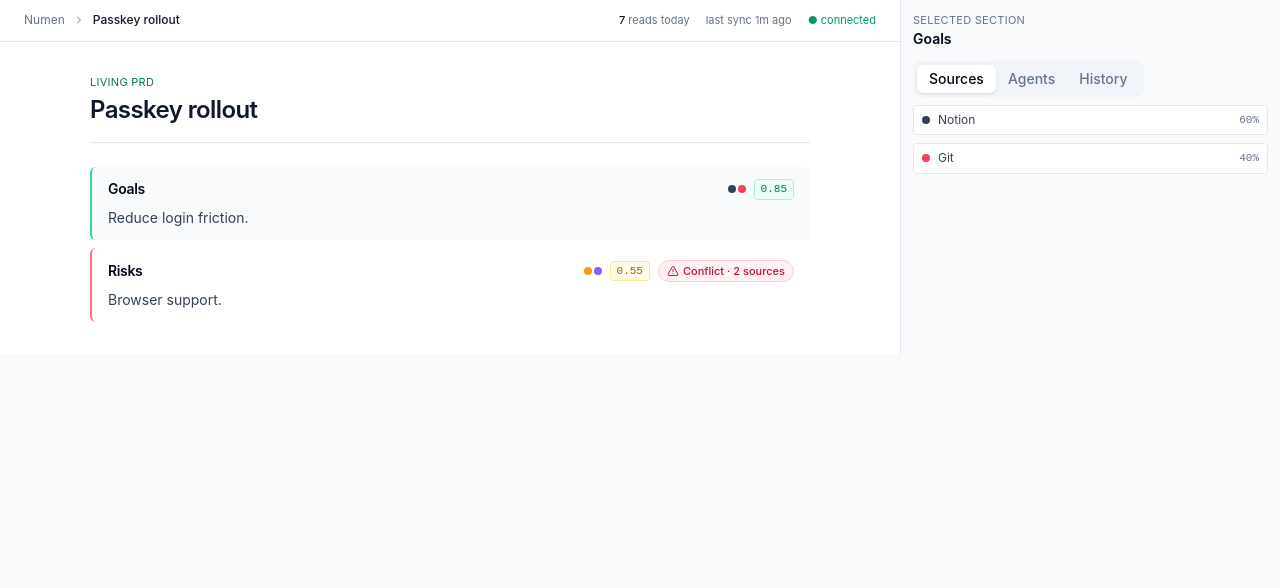
Test: LivingPrdView › clicking the conflict pill opens the resolution card
The width and height of the screenshot is (1280, 588).
Expected: the button with test id "section-s2" is shown, [90,248,810,322]
Click the button with test id "conflict-pill": click(726, 271) [658,260,794,282]
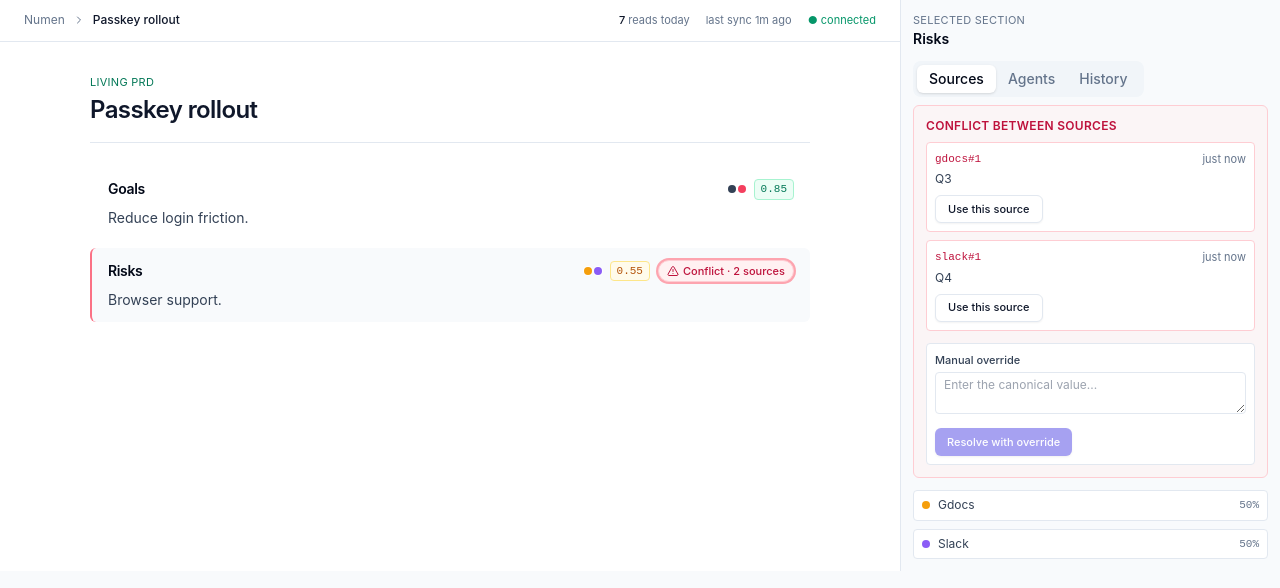
Expected: the element with test id "conflict-card" is shown, [913,104,1268,478]
